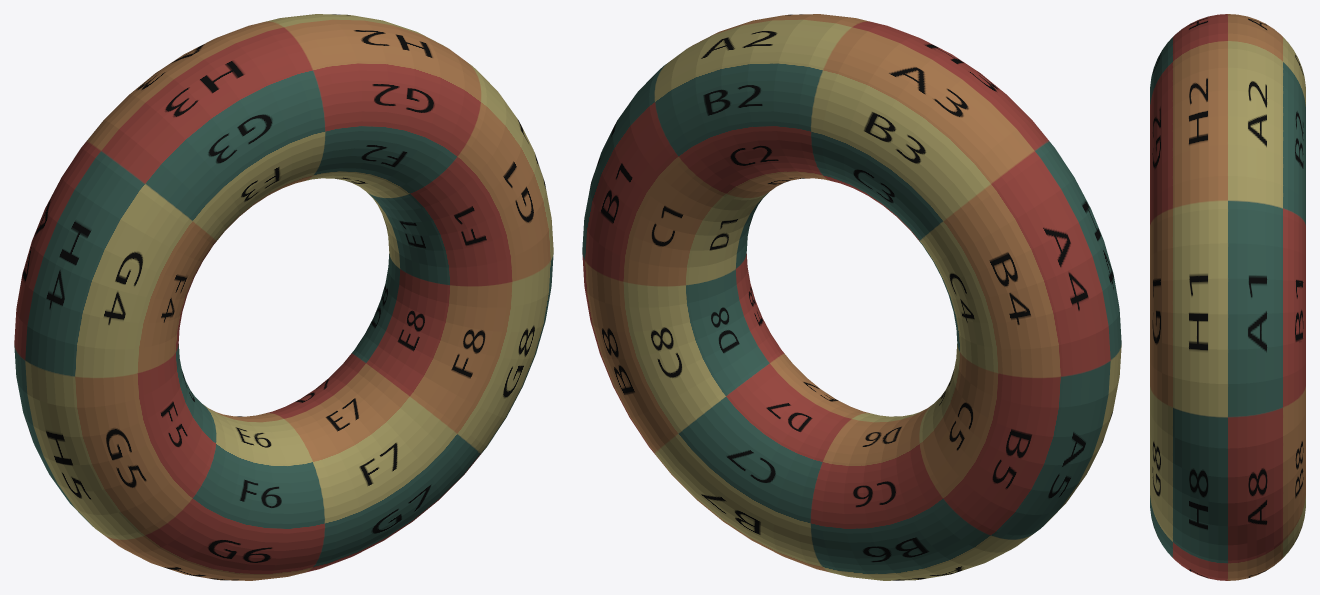
Rendered from texture_torus_R15_r21.glb.
3 views of the same model, side by side, from view 1: azimuth 30°, elevation 25°; view 2: azimuth 150°, elevation 25°; view 3: azimuth 270°, elevation 25° (orthographic). The views are drawn at different scales.
Parts seen in each view (by area): view 1: world; view 2: world; view 3: world.
Part boxes in pixels (x1,y1,x2,y2): world: (14,14,553,580); world: (582,14,1121,580); world: (1150,14,1305,580).
Size of the model in its own units: 27.6 by 27.55 by 7.59.
Materials: 1 (1 with a texture image).
